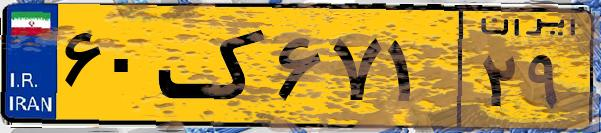0: (110, 28, 158, 98)
1: (385, 28, 445, 110)
2: (475, 38, 525, 113)
6: (270, 28, 330, 110), (57, 26, 110, 100)
7: (330, 28, 385, 110)
9: (525, 38, 570, 115)
ک: (158, 12, 270, 120)
